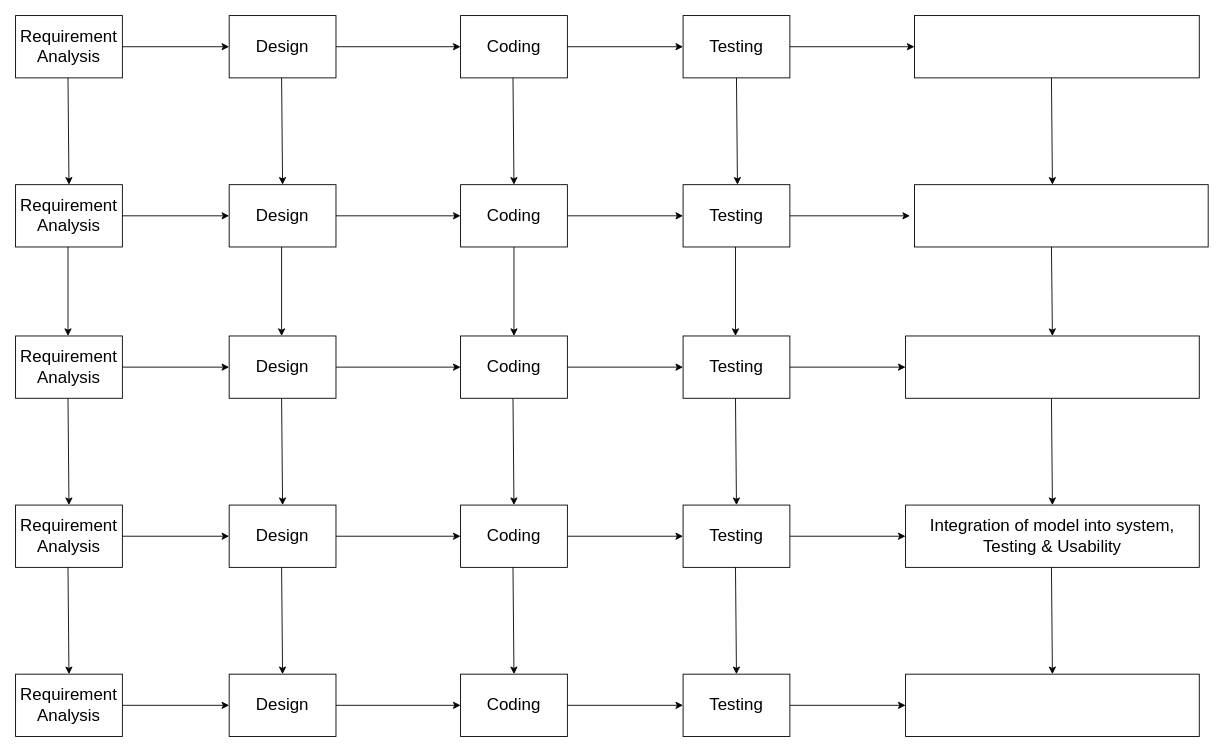
This 1224x752 diagram has some shape labels left out. The box of each missing label's shape, as (x1, y1, x2, y2) in pixels:
Dataset Gathering from Kaggle, LinkedIn: (914, 15, 1199, 78)
Fully Functional User Interface: (905, 335, 1199, 398)
Integrate Resume Optimizer Tool: (905, 673, 1199, 736)
Model Training using Collected Datasets, User Authentication and Authorization: (914, 184, 1208, 247)
